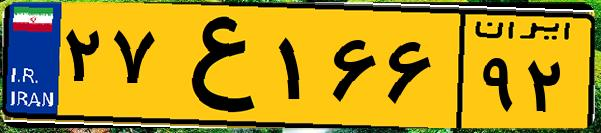1: (270, 28, 330, 110)
2: (57, 26, 110, 100), (525, 38, 570, 115)
6: (385, 28, 445, 110), (330, 28, 385, 110)
7: (110, 28, 158, 98)
9: (475, 38, 525, 113)
ع: (158, 12, 270, 120)
